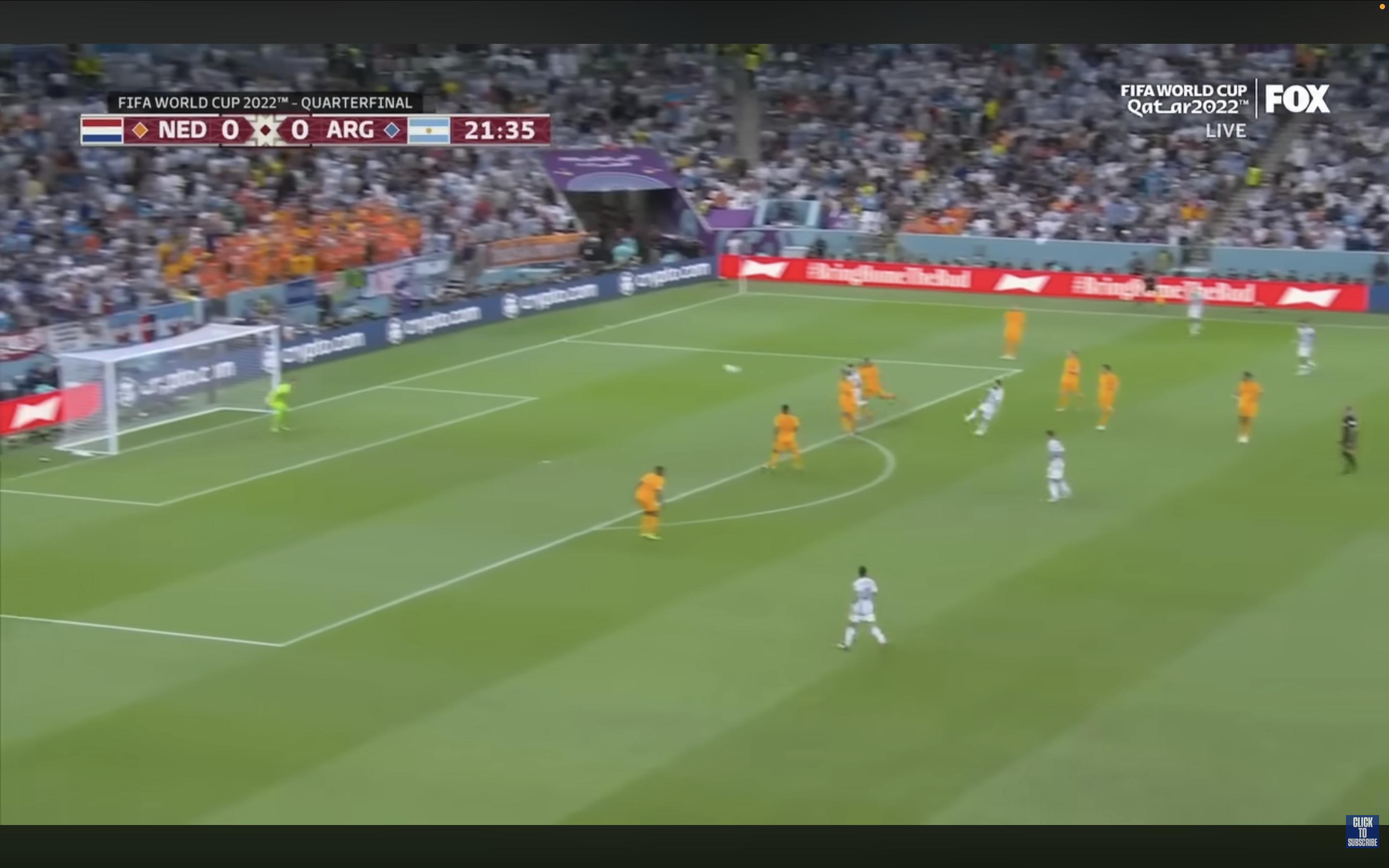ball: (723, 364, 742, 374)
goalkeeper: (266, 379, 292, 432)
player: (838, 566, 886, 651), (766, 405, 803, 469), (858, 358, 896, 420), (965, 379, 1004, 436), (635, 467, 665, 540), (1236, 372, 1263, 444), (1046, 431, 1071, 503), (1057, 350, 1083, 411), (1097, 364, 1120, 430), (838, 369, 859, 434), (1002, 308, 1026, 360), (1296, 320, 1316, 375), (1187, 288, 1204, 336)
referee: (1340, 407, 1358, 473)
